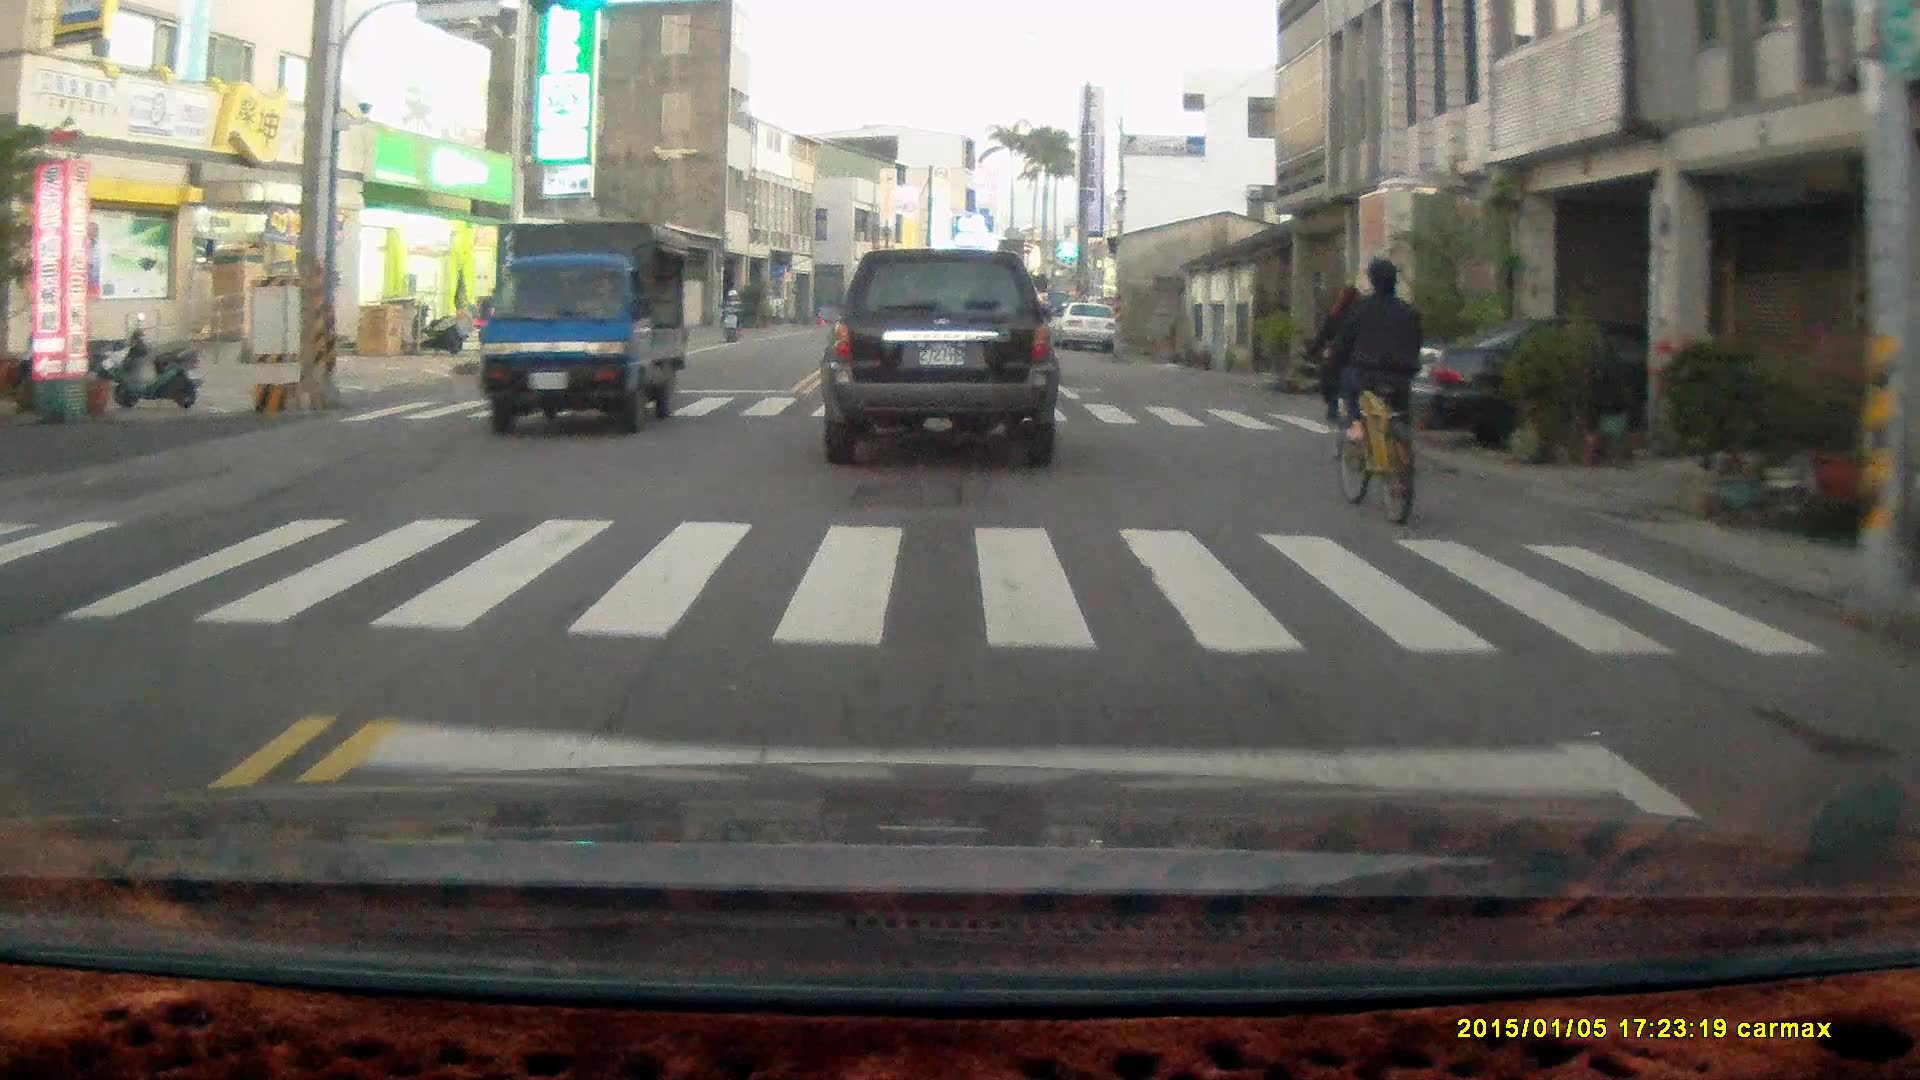rider: (1324, 258, 1427, 528), (1311, 277, 1380, 466), (718, 288, 742, 345)
vehicle: (1407, 318, 1800, 463), (820, 248, 1062, 470), (473, 218, 698, 436), (1057, 304, 1120, 354)
